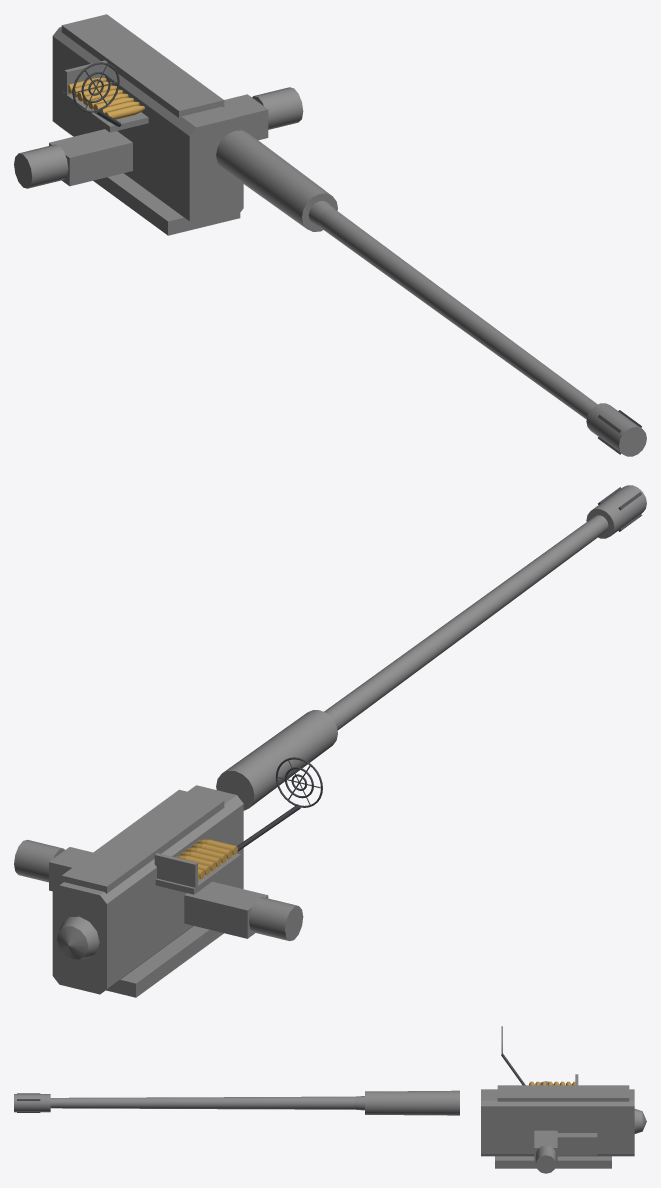
Rendered from flak_m42.obj.
The picture shows the model from 3 angles, top to bottom: view 1: azimuth 30°, elevation 25°; view 2: azimuth 150°, elevation 25°; view 3: azimuth 270°, elevation 25°; orthographic projection. The views are drawn at different scales.
Visible parts, largest first — view 1: turret_0, barrel_0, turret_1, turret_2; view 2: turret_0, barrel_0, turret_2, turret_1; view 3: turret_0, barrel_0.
Boxes of the visible parts, bbox=[...] form: turret_0: bbox=[14, 14, 303, 235]; barrel_0: bbox=[216, 130, 646, 456]; turret_1: bbox=[68, 77, 144, 121]; turret_2: bbox=[72, 62, 121, 126]; turret_0: bbox=[14, 785, 303, 997]; barrel_0: bbox=[216, 485, 646, 810]; turret_2: bbox=[237, 757, 322, 851]; turret_1: bbox=[176, 839, 237, 881]; turret_0: bbox=[481, 1074, 646, 1173]; barrel_0: bbox=[14, 1090, 459, 1115].
Bounding box in the file's own units: 1.2 × 0.7785 × 4.33.
